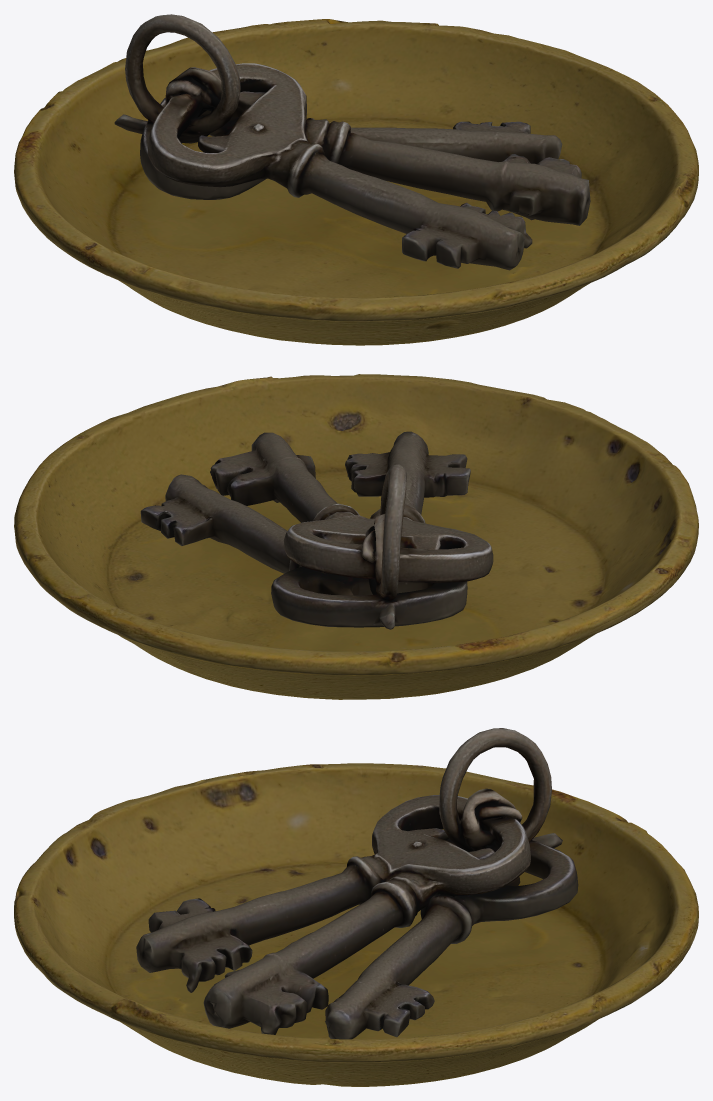
The model's file is scene-key-tray-v03.glb.
3 views of the same model, one above another, from view 1: azimuth 30°, elevation 25°; view 2: azimuth 150°, elevation 25°; view 3: azimuth 270°, elevation 25° (orthographic).
Parts seen in each view (by area): view 1: tripo_node_9a353f25-c9bb-4a0d-b051-f05c63a468d2; view 2: tripo_node_9a353f25-c9bb-4a0d-b051-f05c63a468d2; view 3: tripo_node_9a353f25-c9bb-4a0d-b051-f05c63a468d2.
Boxes of the visible parts, left/top/right/bottom form: tripo_node_9a353f25-c9bb-4a0d-b051-f05c63a468d2: left=14, top=14, right=698, bottom=345; tripo_node_9a353f25-c9bb-4a0d-b051-f05c63a468d2: left=14, top=374, right=698, bottom=699; tripo_node_9a353f25-c9bb-4a0d-b051-f05c63a468d2: left=14, top=728, right=698, bottom=1086.
Size of the model in its own units: 0.1529 by 0.05 by 0.1536.
1 material, 1 textured.
